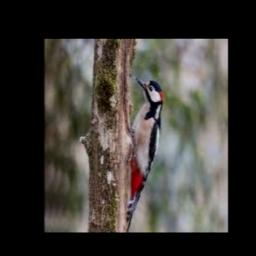Woodpecker: (126, 76, 163, 233)
